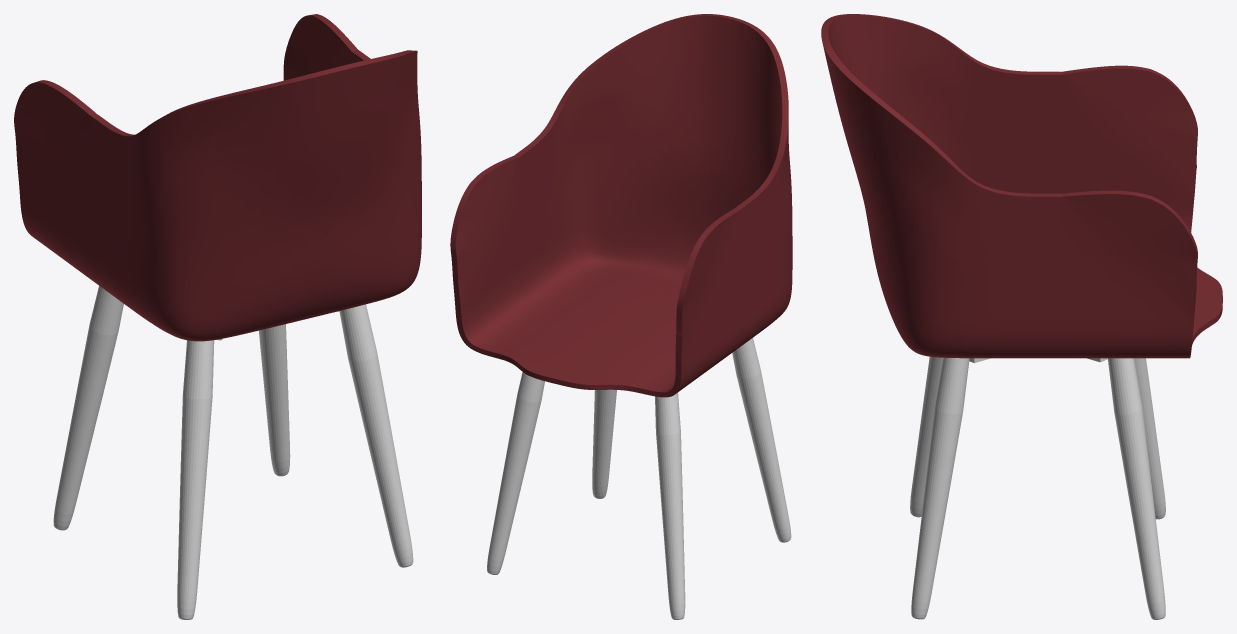
File: chair1.fbx
3 views of the same model, side by side, from view 1: azimuth 30°, elevation 25°; view 2: azimuth 150°, elevation 25°; view 3: azimuth 270°, elevation 25° (orthographic). The views are drawn at different scales.
Parts seen in each view (by area): view 1: Cube, Cylinder.003, Cylinder, Cylinder.001, Cylinder.002; view 2: Cube, Cylinder.001, Cylinder.003, Cylinder.002, Cylinder; view 3: Cube, Cylinder.002, Cylinder, Cylinder.003, Cylinder.001.
Boxes of the visible parts, x1,y1,x2,y2 form: Cube: (14, 14, 421, 341); Cylinder.003: (177, 340, 214, 619); Cylinder: (339, 304, 413, 567); Cylinder.001: (53, 286, 123, 530); Cylinder.002: (259, 324, 290, 476); Cube: (450, 14, 792, 397); Cylinder.001: (655, 392, 685, 619); Cylinder.003: (732, 338, 791, 542); Cylinder.002: (487, 372, 544, 574); Cylinder: (592, 389, 616, 498); Cube: (821, 14, 1222, 358); Cylinder.002: (1107, 358, 1165, 619); Cylinder: (911, 357, 969, 619); Cylinder.003: (910, 356, 943, 517); Cylinder.001: (1134, 358, 1165, 519).
Size of the model in its own units: 209 by 401 by 272.
